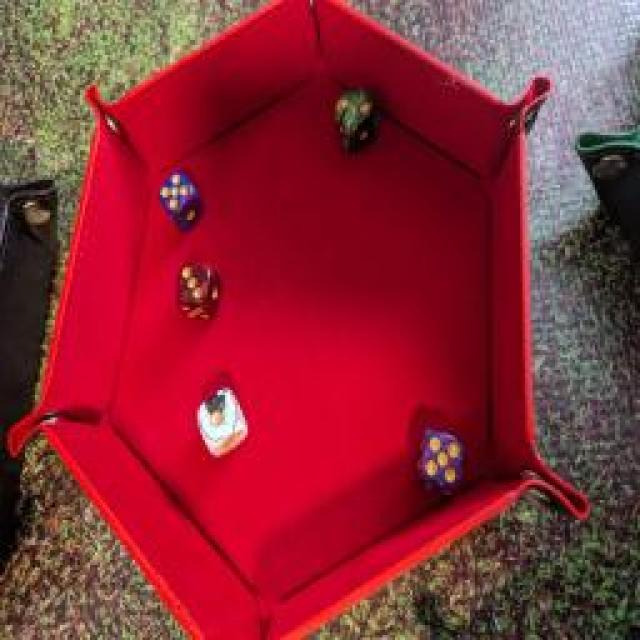dice_1: (195, 382, 250, 460)
dice_2: (330, 82, 382, 150)
dice_3: (174, 258, 221, 330)
dice_5: (414, 424, 464, 498), (155, 165, 205, 233)
